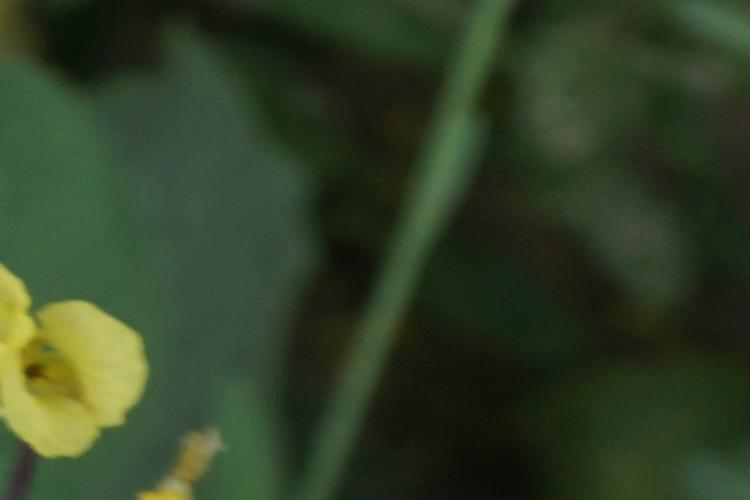yellow: (7, 282, 165, 468)
